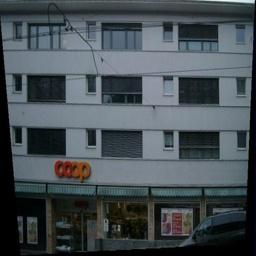building: (6, 0, 256, 198)
